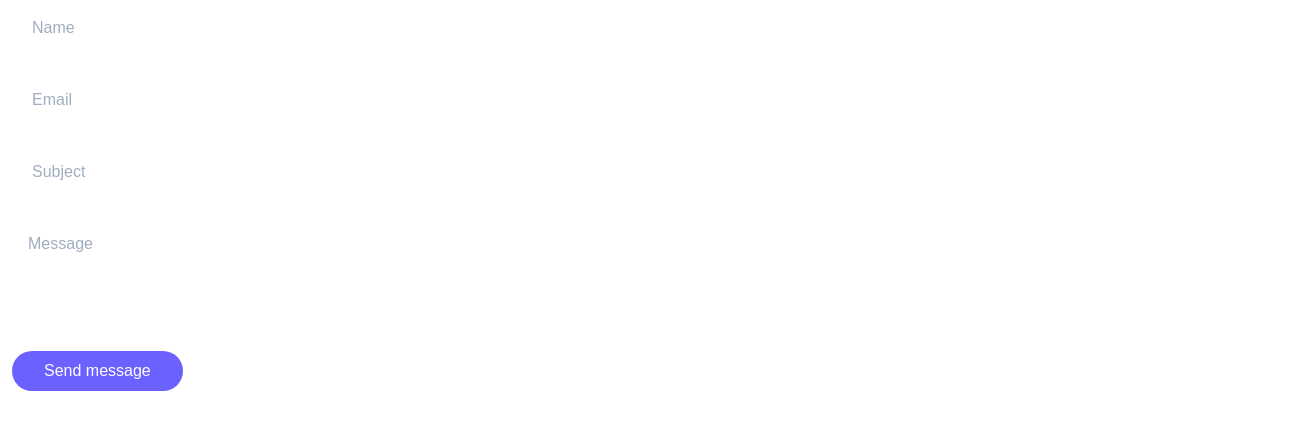
Test: ContactForm Component › should handle unexpected exception
Type "Test Guy" into the field with placeholder "Name" at point(652, 28), box [12, 8, 1292, 48]
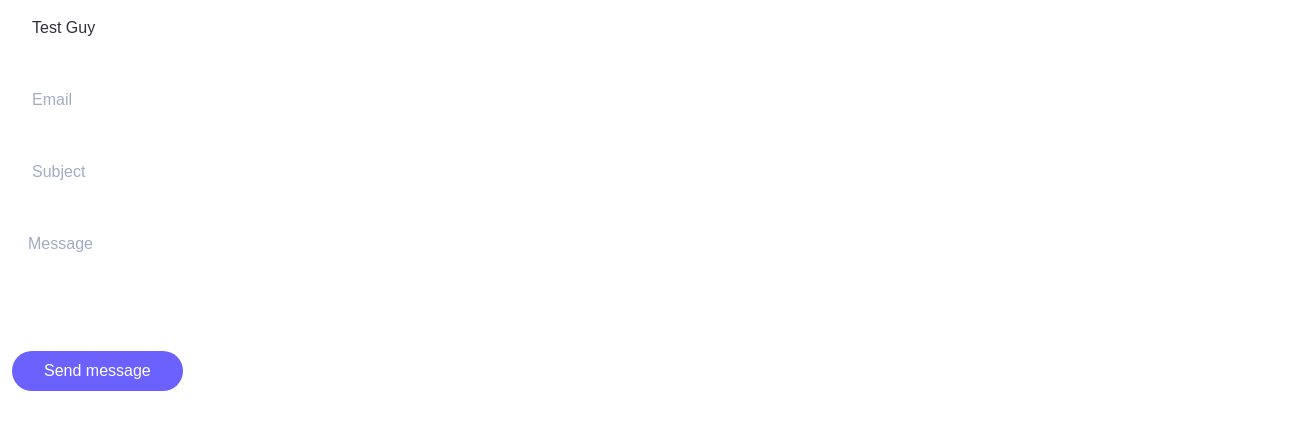
Type "test_guy@email.test" into the field with placeholder "Email" at point(652, 100), box [12, 80, 1292, 120]
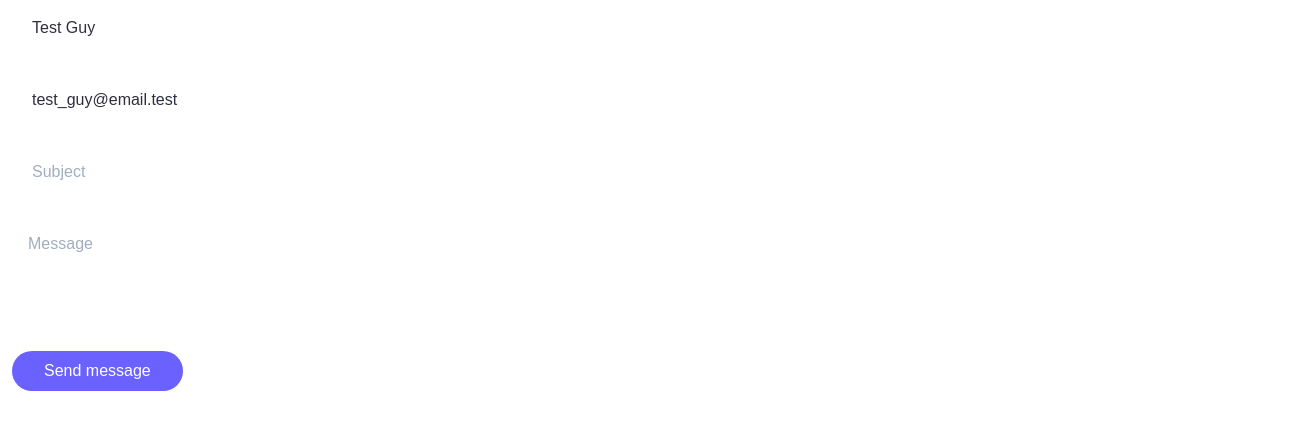
Type "Test subject" into the field with placeholder "Subject" at point(652, 172), box [12, 152, 1292, 192]
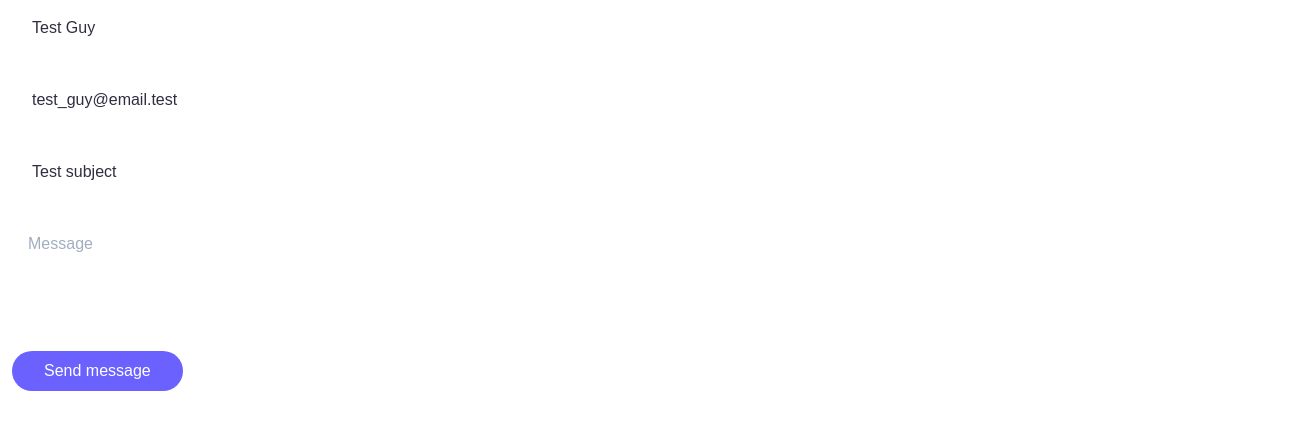
Type "This is a test message" into the text box with placeholder "Message" at point(652, 268), box [12, 224, 1292, 312]
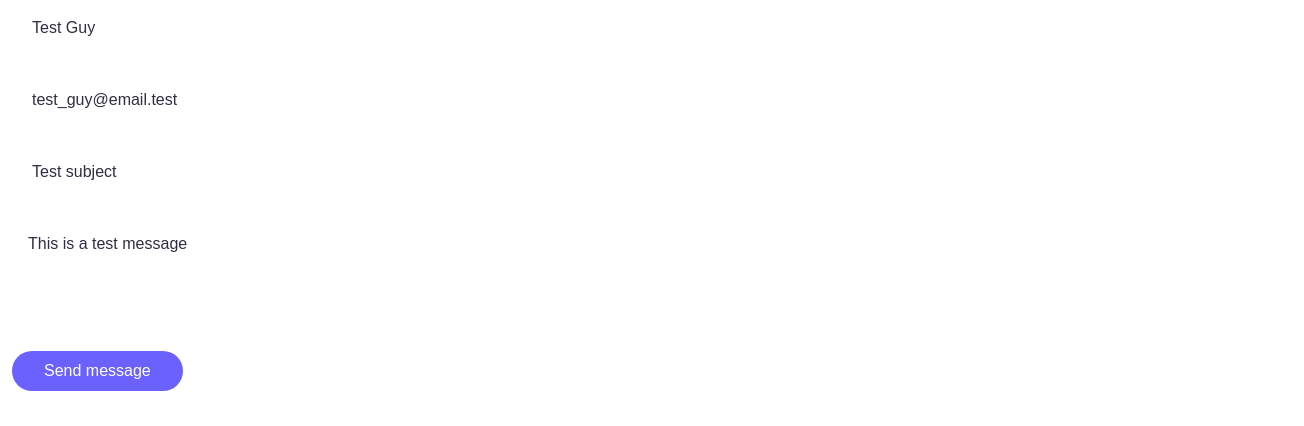
Click the button "Send message" at point(97, 371), box [12, 351, 183, 391]
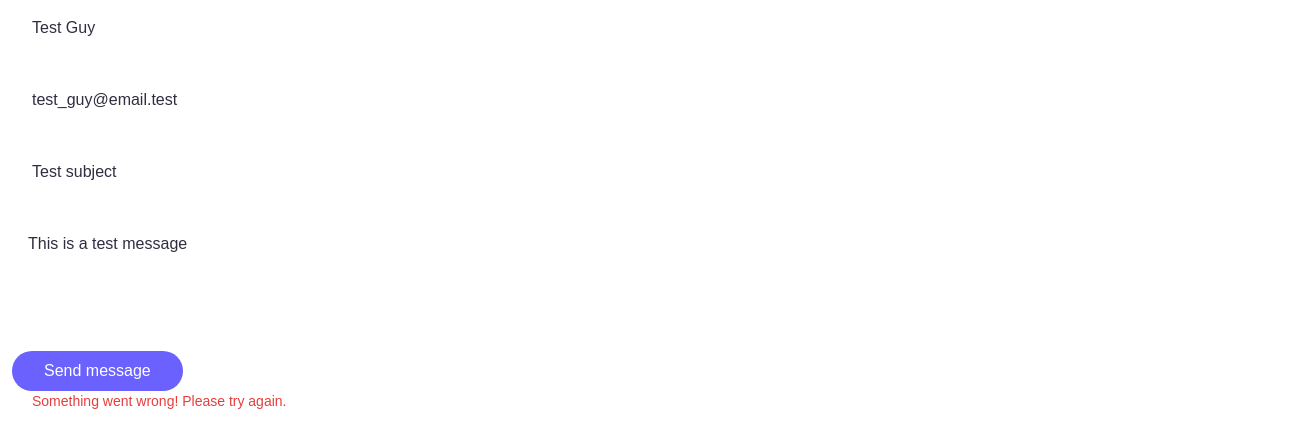
Check: the text "Something went wrong! Please try again." is shown, box [32, 393, 286, 409]
